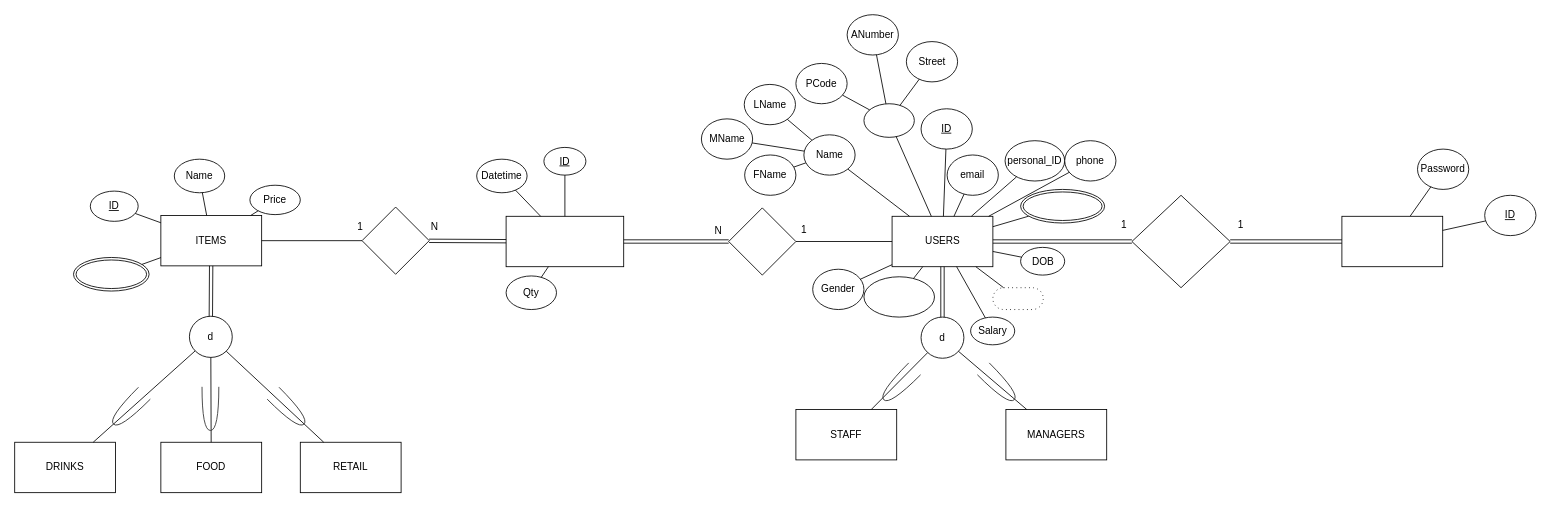
The diagram is 1551 pixels wide and 507 high, and some of its shapes have lost their labels. Each missing label, with the centre of its shape:
ACCOUNT: the point at 1392,241
Address: the point at 888,120
Age: the point at 1017,298
CONTAINS: the point at 395,240
CREATE: the point at 762,241
hours_worked: the point at 898,296
Item_Type: the point at 111,274
Job Title: the point at 1062,206
OWNS: the point at 1180,241
RECEIPTS_HISTORY: the point at 564,241
